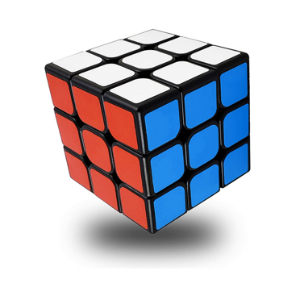cube: (44, 29, 252, 235)
